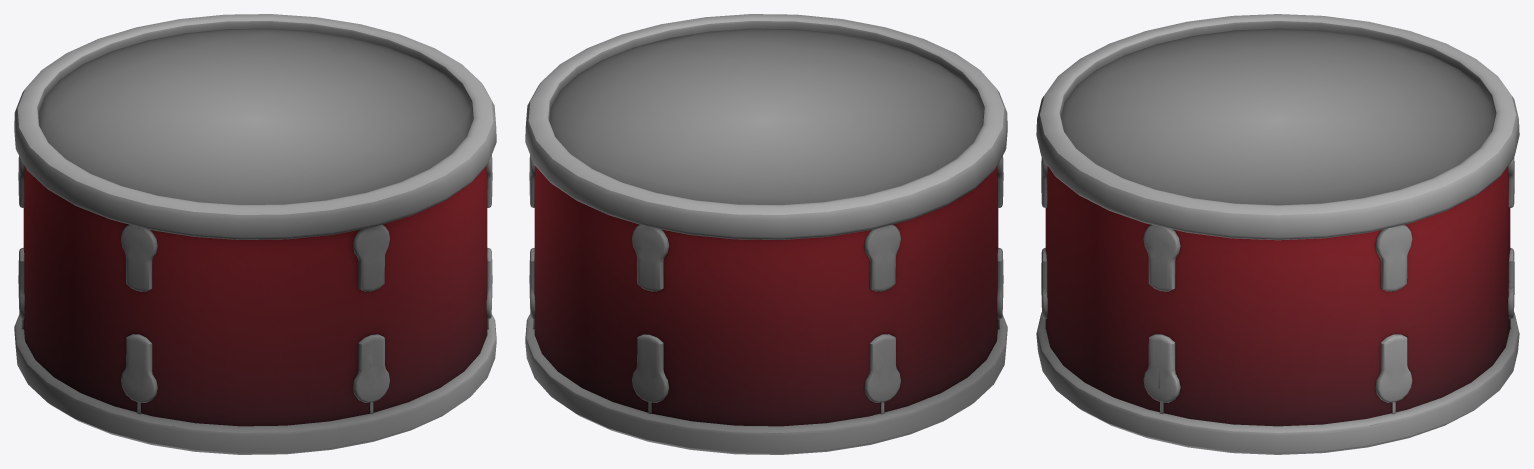
File: beben_sred_B.fbx
3 renders of one model, left to right at view 1: azimuth 30°, elevation 25°; view 2: azimuth 150°, elevation 25°; view 3: azimuth 270°, elevation 25°, orthographic.
Parts seen in each view (by area): view 1: beben_sred_B; view 2: beben_sred_B; view 3: beben_sred_B.
Boxes of the visible parts, box(x1,y1,x2,y2) form: beben_sred_B: box(14, 14, 496, 454); beben_sred_B: box(525, 14, 1007, 454); beben_sred_B: box(1036, 14, 1519, 454).
Bounding box in the file's own units: 749 × 420 × 749.
Materials: 1 (1 with a texture image).
